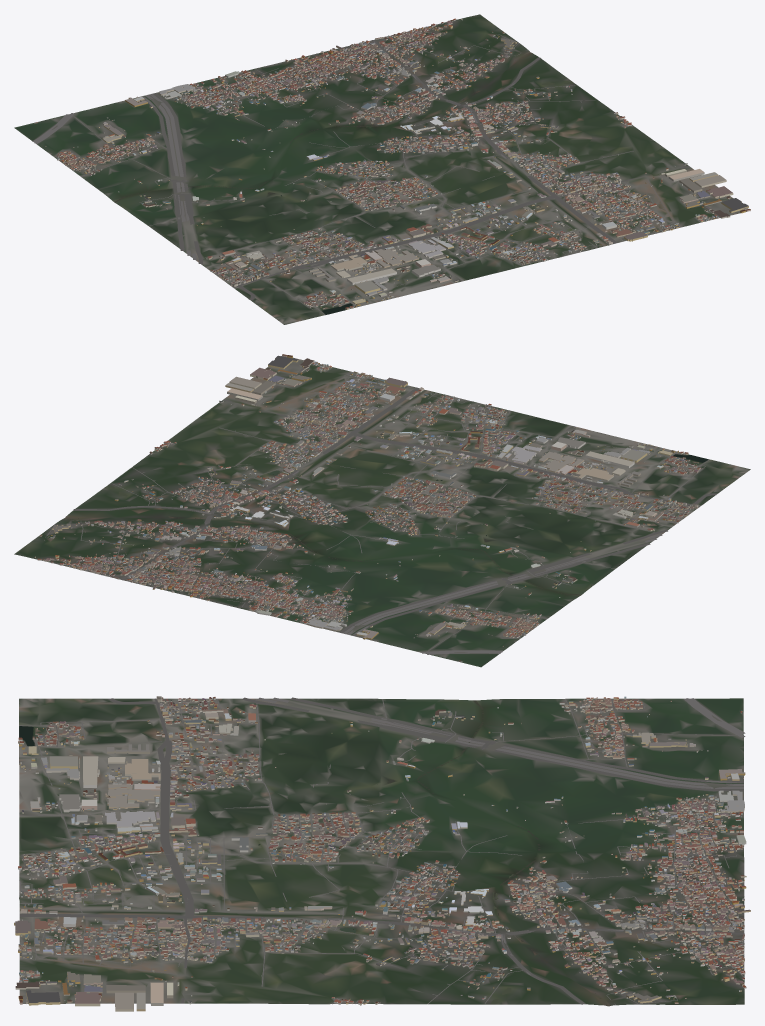
The picture shows the model from 3 angles, top to bottom: view 1: azimuth 30°, elevation 25°; view 2: azimuth 150°, elevation 25°; view 3: azimuth 270°, elevation 25°; orthographic projection. The views are drawn at different scales.
Parts seen in each view (by area): view 1: ground, buildings, roads, water; view 2: ground, buildings, roads, water; view 3: ground, buildings, roads, water.
Boxes of the visible parts, <box> form: ground: <box>14,14,742,324</box>; buildings: <box>34,18,750,309</box>; roads: <box>32,23,700,314</box>; water: <box>114,81,573,314</box>; ground: <box>14,357,750,667</box>; buildings: <box>34,354,702,662</box>; roads: <box>45,367,716,654</box>; water: <box>78,454,708,595</box>; ground: <box>19,698,744,1006</box>; buildings: <box>14,696,750,1011</box>; roads: <box>19,697,745,1005</box>; water: <box>19,700,600,1004</box>.
Bounding box in the file's own units: 2880 × 34.1 × 2851.
